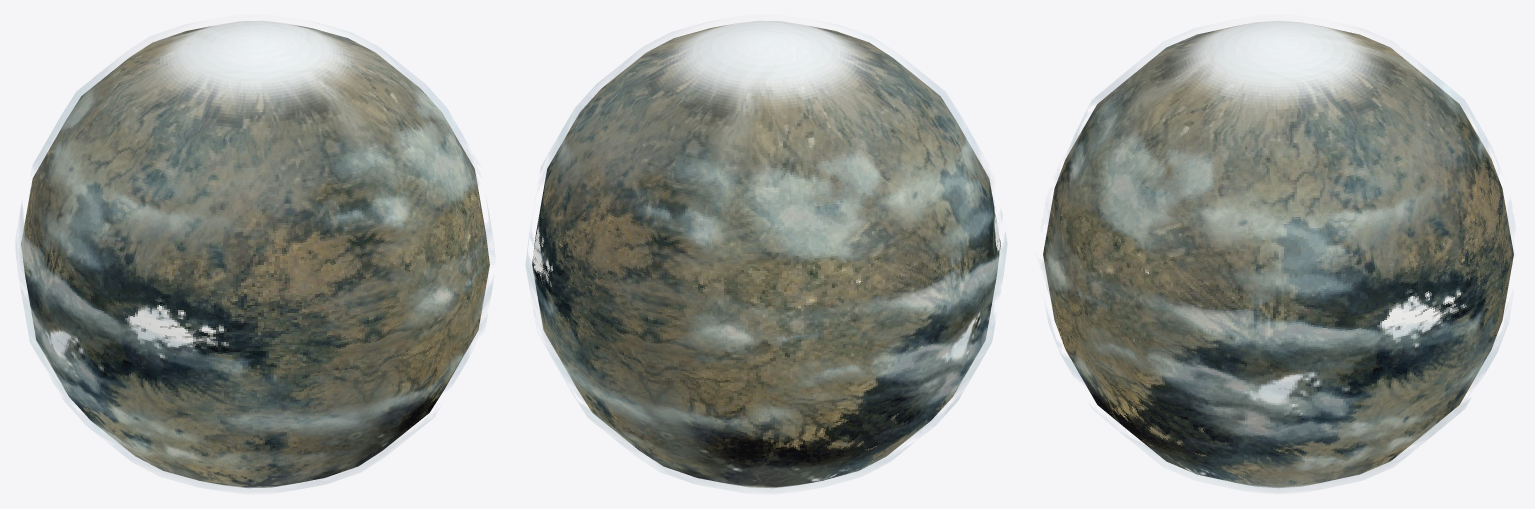
The model's file is prockyplanet_cmp.gltf.
3 views of the same model, side by side, from view 1: azimuth 30°, elevation 25°; view 2: azimuth 150°, elevation 25°; view 3: azimuth 270°, elevation 25° (orthographic).
Parts seen in each view (by area): view 1: Root, clouds; view 2: Root, clouds; view 3: Root, clouds.
Part boxes in pixels (x1,y1,x2,y2): Root: (21,20,489,488); clouds: (16,14,492,494); Root: (532,20,1000,488); clouds: (525,14,1007,494); Root: (1043,20,1513,488); clouds: (1042,14,1509,494).
Size of the model in its own units: 44.28 by 44.28 by 44.28.
Materials: 2 (2 with a texture image).
